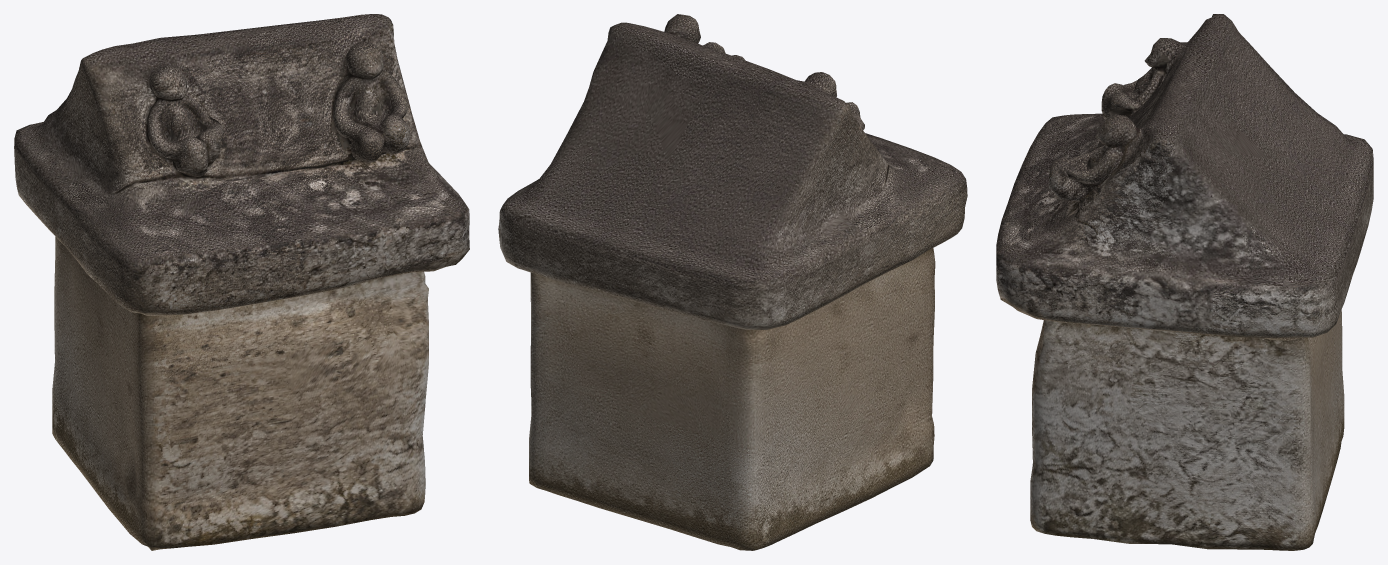
The model's file is waruga.glb.
The picture shows the model from 3 angles, left to right: view 1: azimuth 30°, elevation 25°; view 2: azimuth 150°, elevation 25°; view 3: azimuth 270°, elevation 25°; orthographic projection. The views are drawn at different scales.
Parts seen in each view (by area): view 1: tripo_node_71b7bf2e-87be-470e-b9ce-f8c56fee9bbe; view 2: tripo_node_71b7bf2e-87be-470e-b9ce-f8c56fee9bbe; view 3: tripo_node_71b7bf2e-87be-470e-b9ce-f8c56fee9bbe.
Part boxes in pixels (x1,y1,x2,y2): tripo_node_71b7bf2e-87be-470e-b9ce-f8c56fee9bbe: (14,14,469,550); tripo_node_71b7bf2e-87be-470e-b9ce-f8c56fee9bbe: (498,14,967,550); tripo_node_71b7bf2e-87be-470e-b9ce-f8c56fee9bbe: (996,14,1373,550).
Size of the model in its own units: 0.8457 by 0.998 by 0.8262.
1 material, 1 textured.
